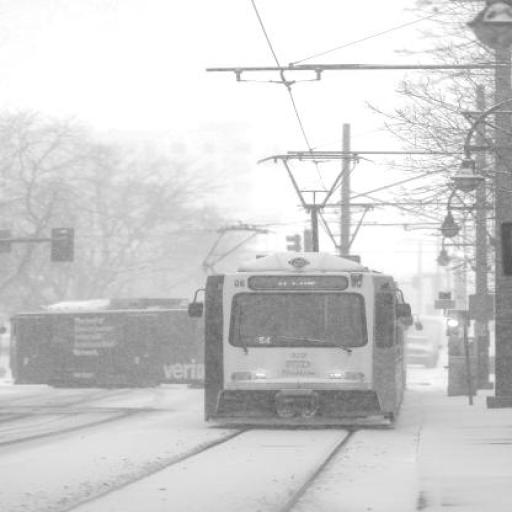street light: (454, 101, 511, 412), (436, 188, 494, 389)
